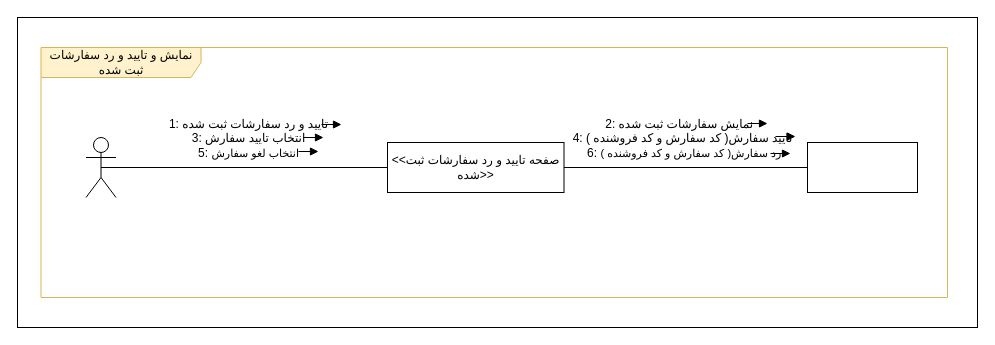
Some shapes in this 995 by 345 pixel diagram are drawn without their labels. Here are the shapes that lost their labels. From the top down, the centre of each, then its label:
point (100, 167): فروشنده
point (862, 167): :سفارشات
